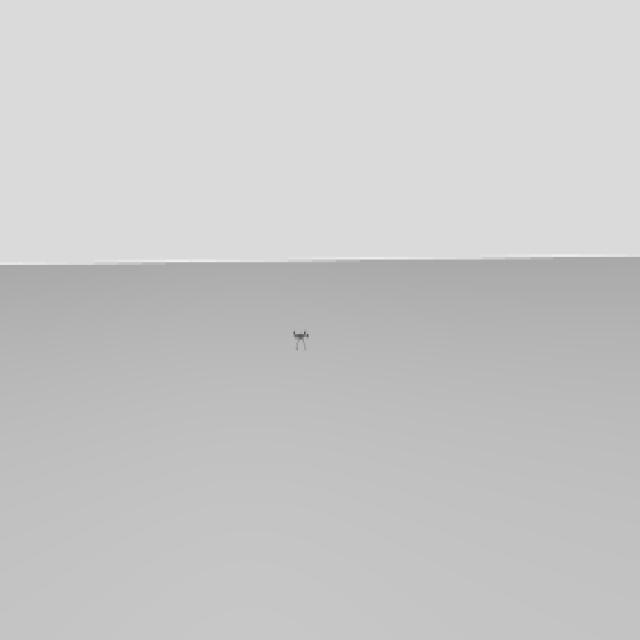drone: (291, 319, 312, 355)
